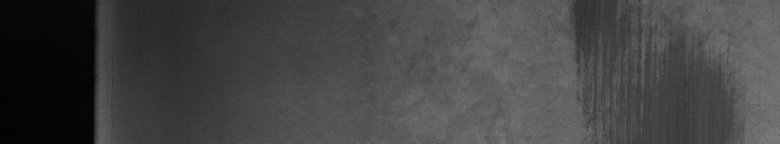ka: (572, 7, 661, 132)
